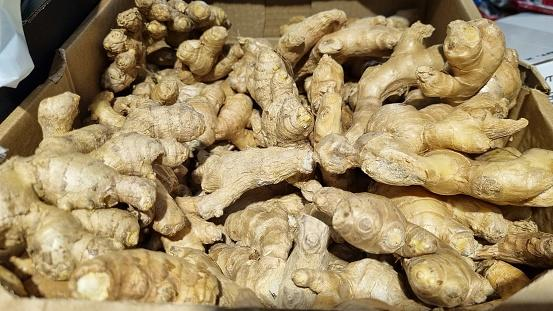ginger: (1, 0, 553, 309)
